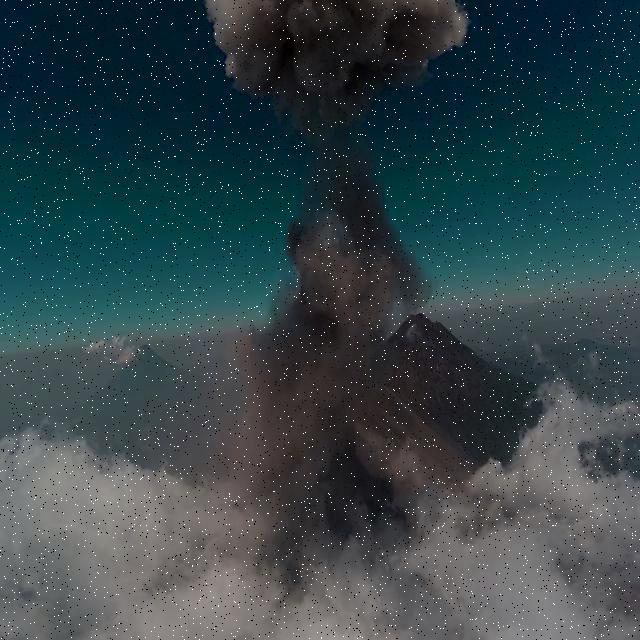Plume: (230, 158, 418, 481), (201, 0, 464, 136)
